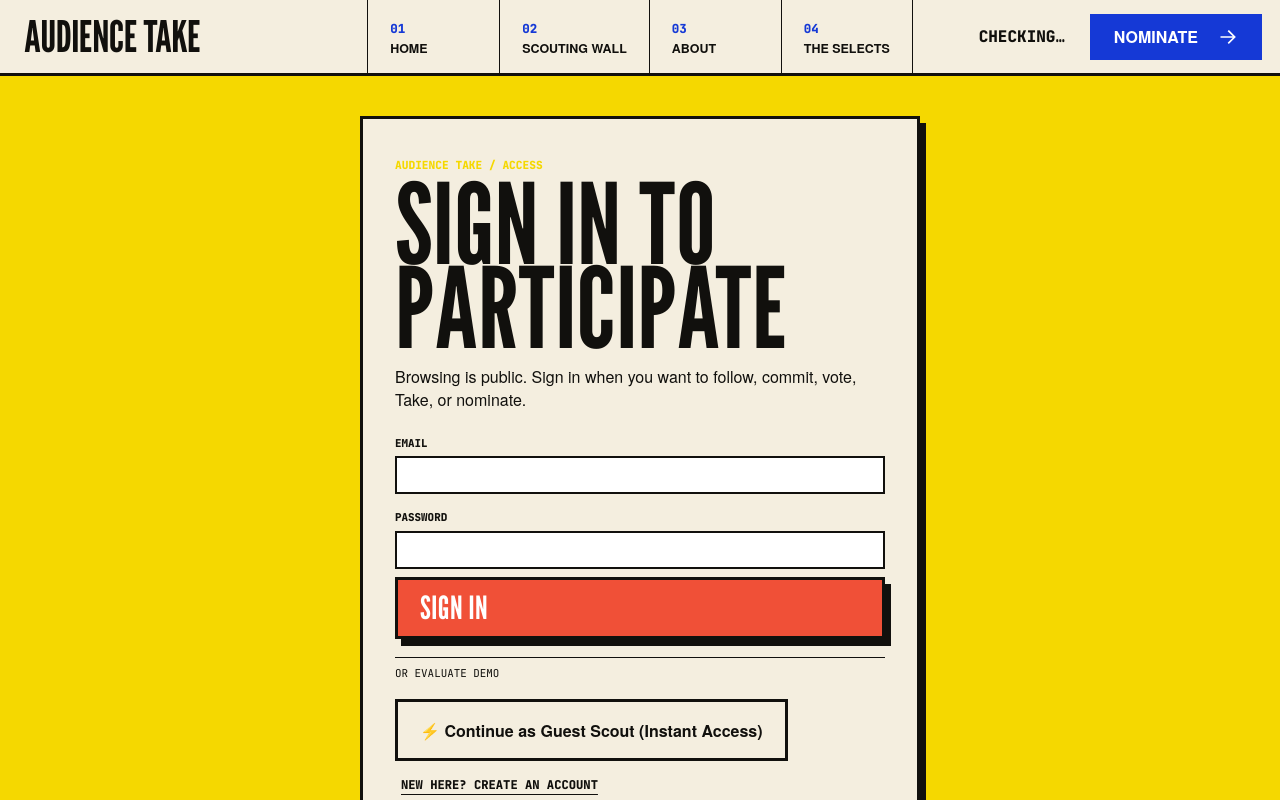
Test: sign-in page › sanitizes an external return target and supports account mode
This screenshot has width=1280, height=800.
Click the button "New here? Create an account": {"x": 499, "y": 786} 395,776 -> 604,796
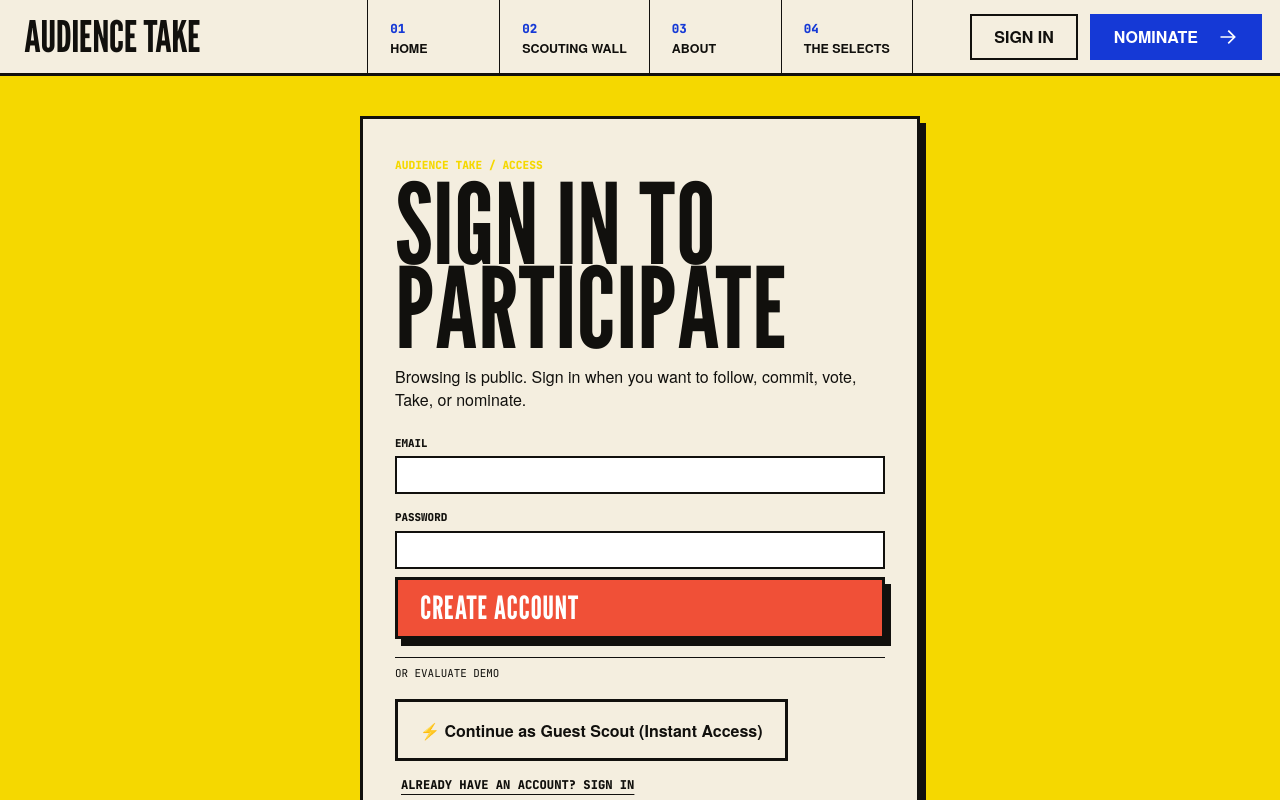
Check: the button "Create account" is shown, box 395,577 -> 885,639
